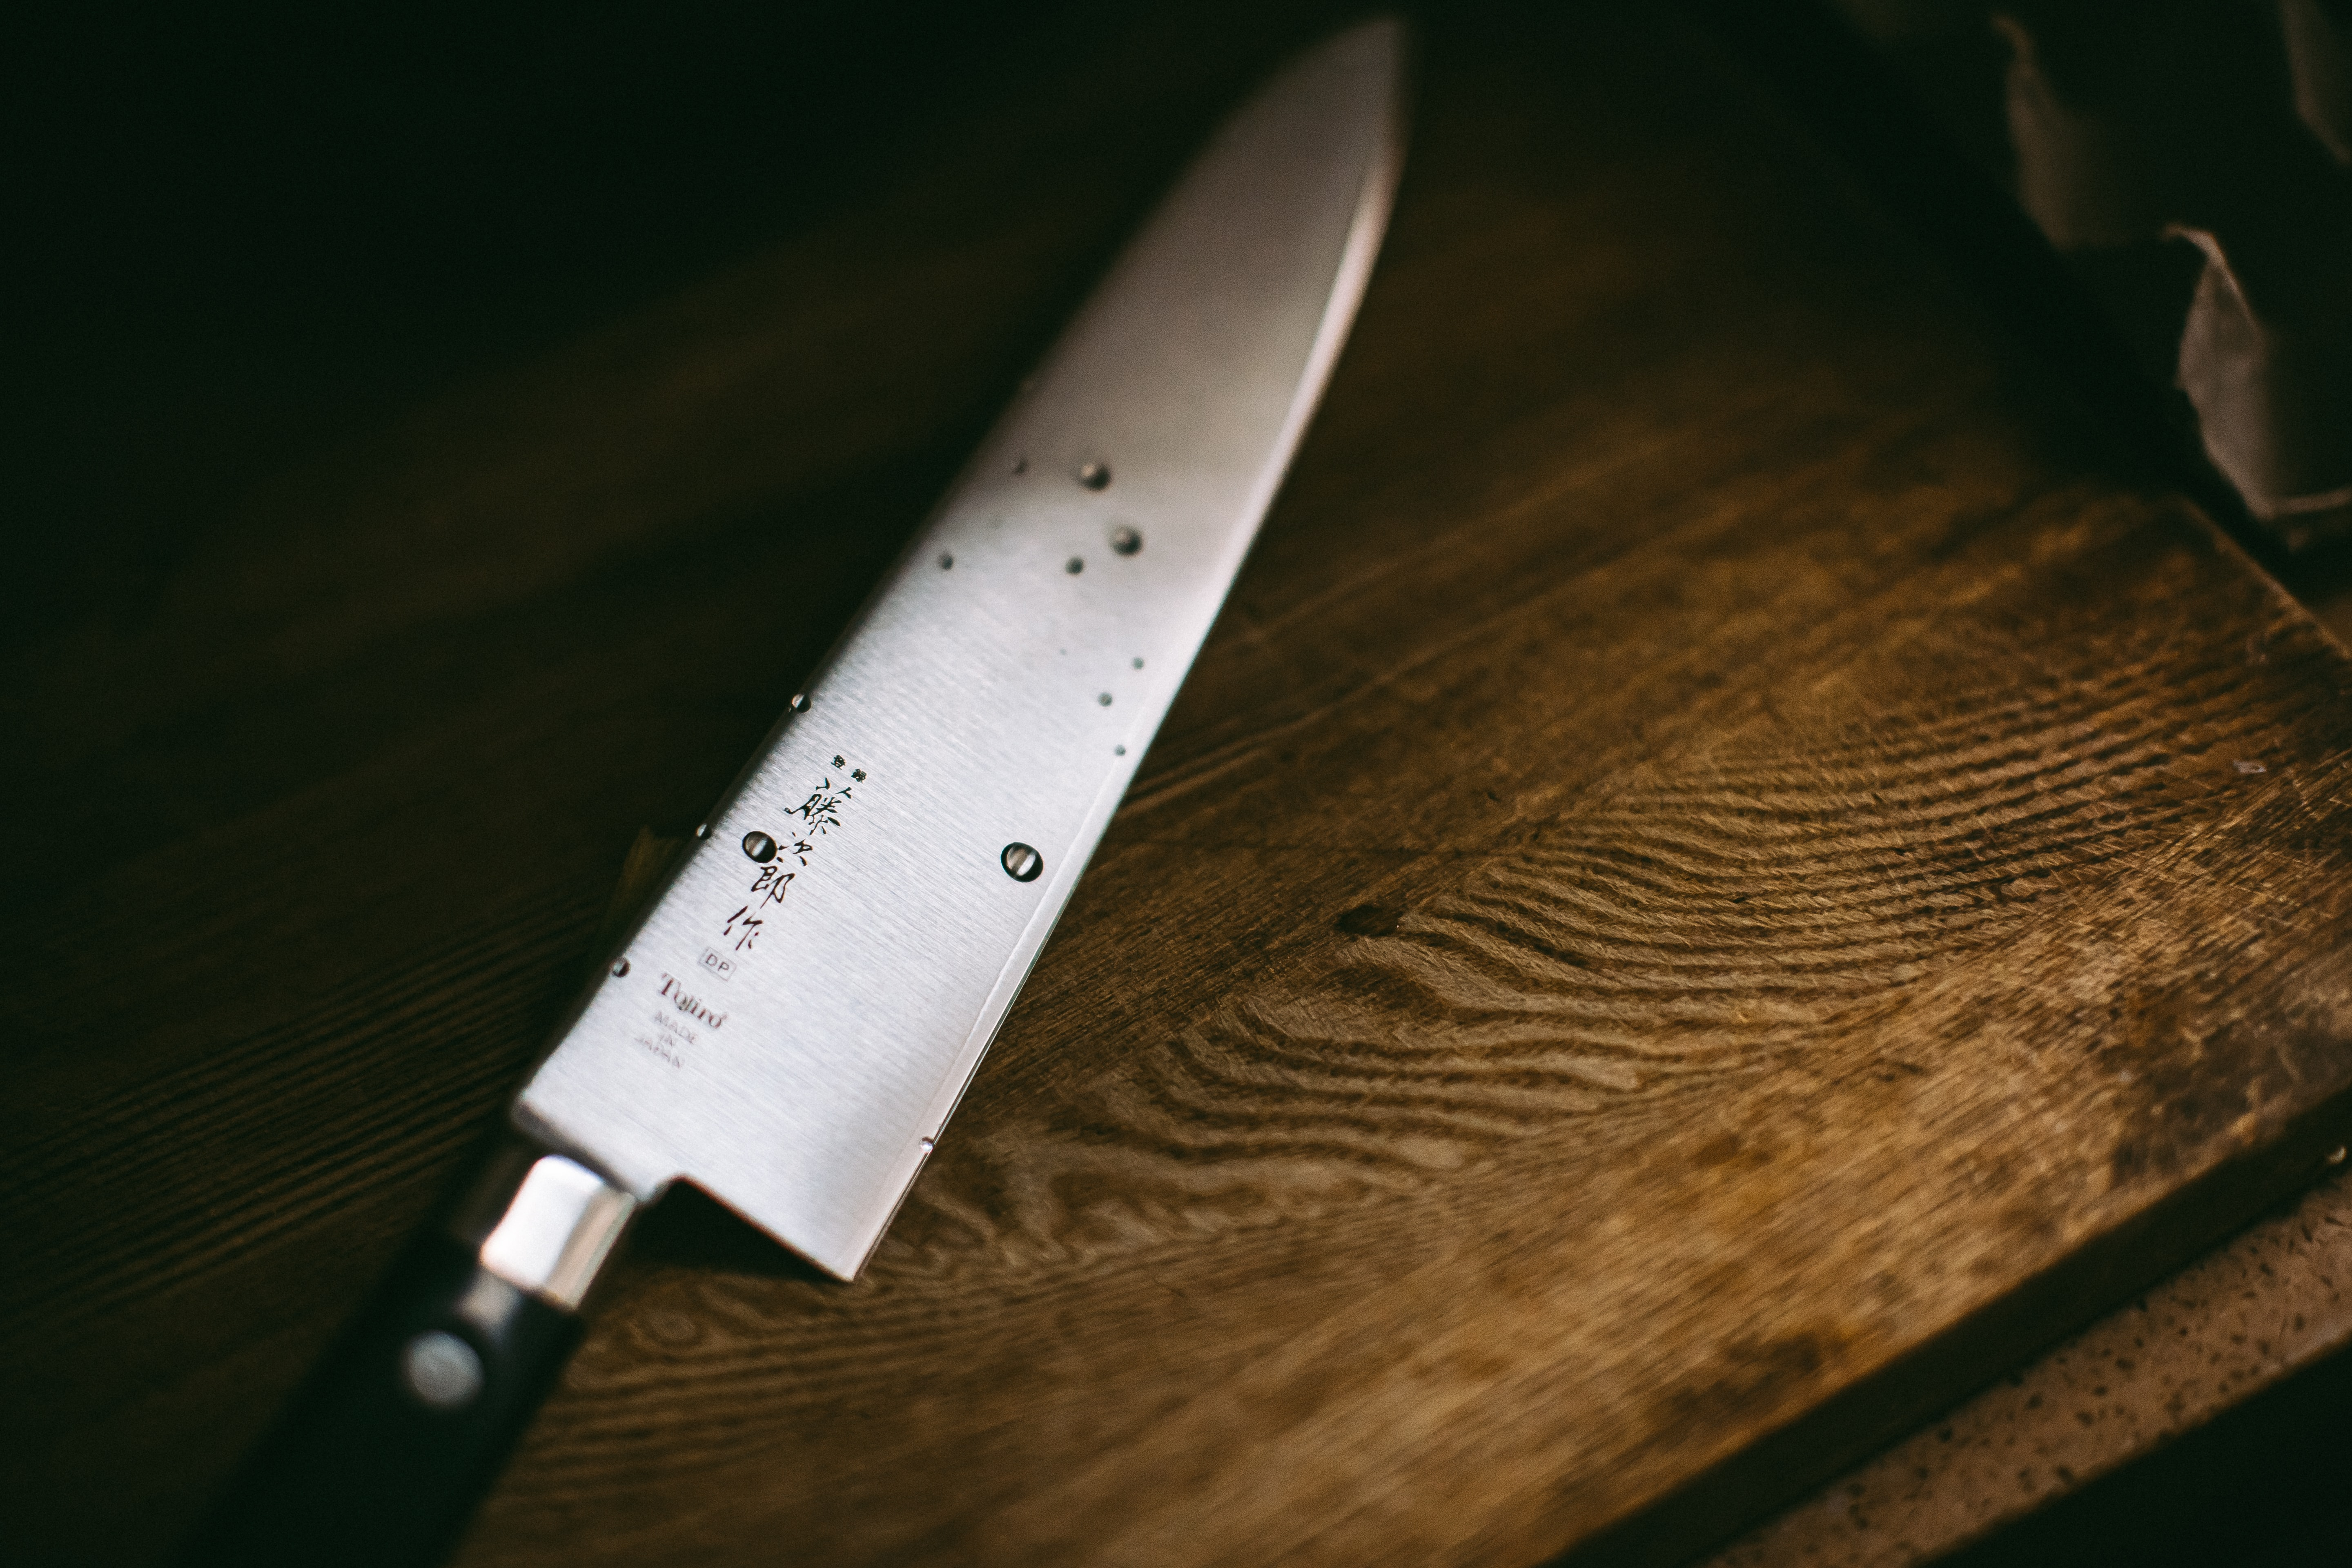knife: (136, 61, 1452, 1554)
